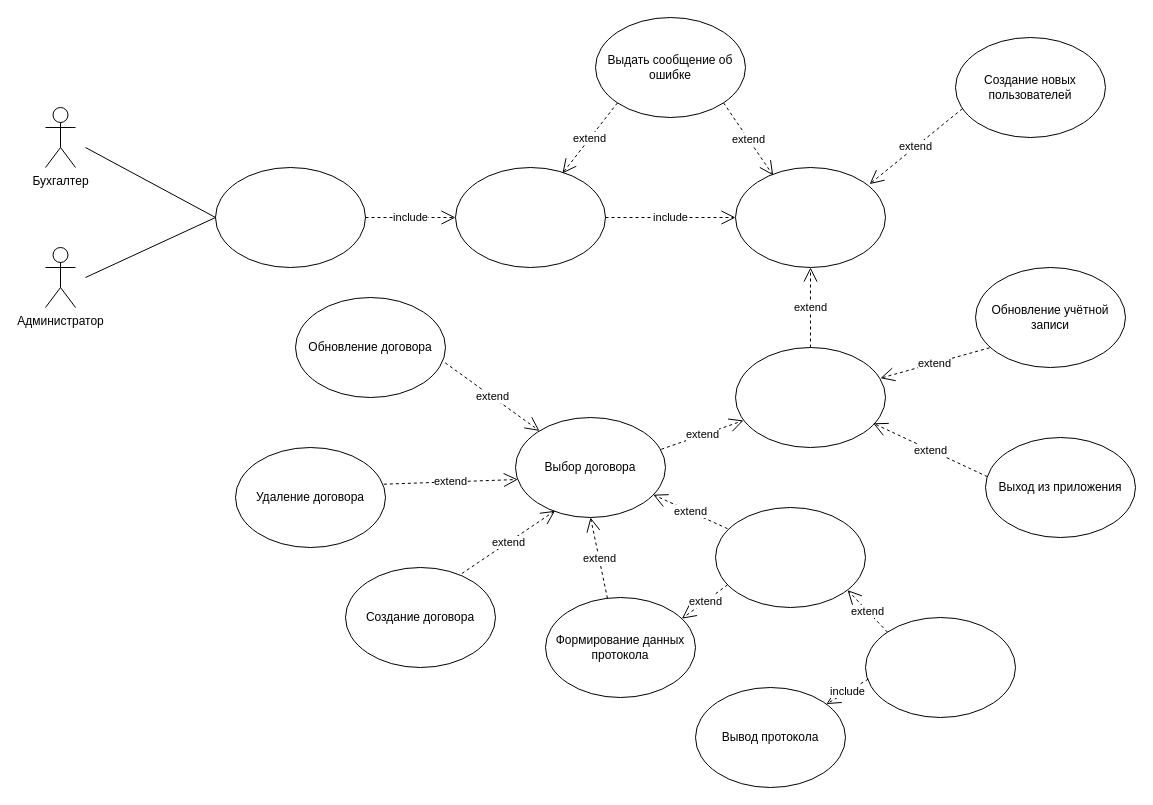
Image size: 1153x805. Some labels were removed from this diagram. Here are the shapes that lost their labels. From the top down, the centre of each, then its label:
At (x=290, y=217): "Вход в систему".
At (x=530, y=217): "Аутентификация".
At (x=810, y=217): "Авторизация".
At (x=810, y=397): "Просмотр договоров".
At (x=790, y=557): "Просмотр протоколов".
At (x=940, y=667): "Выбор протокола".
